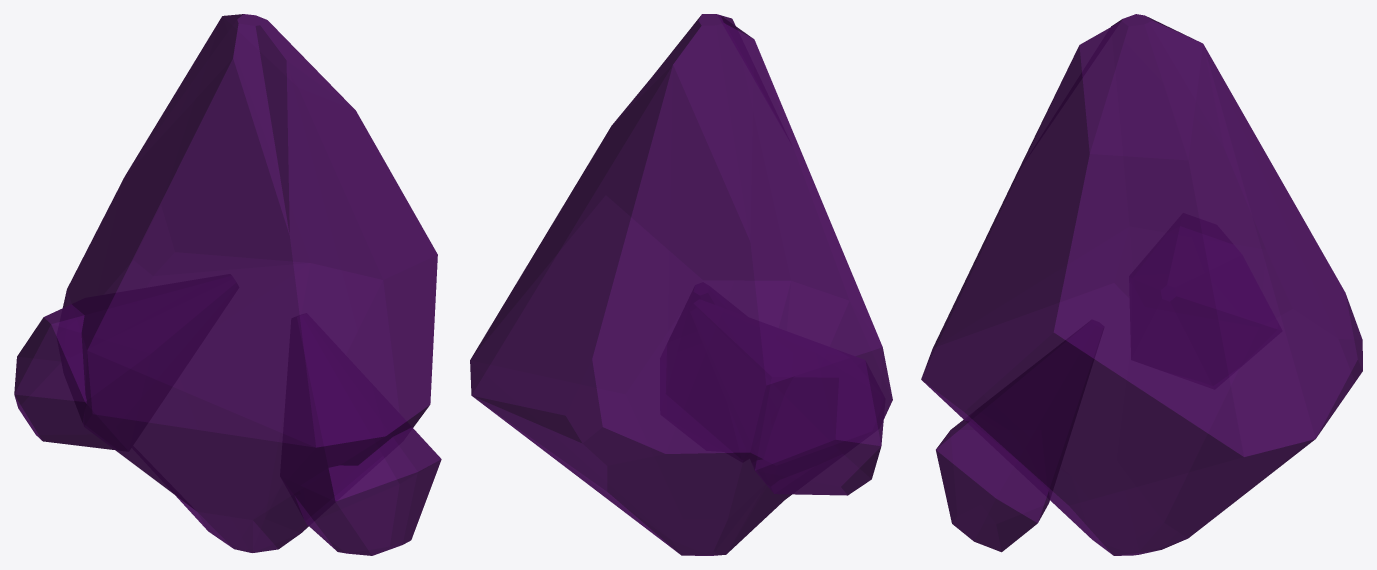
The model's file is Cristal.fbx.
The picture shows the model from 3 angles, left to right: view 1: azimuth 30°, elevation 25°; view 2: azimuth 150°, elevation 25°; view 3: azimuth 270°, elevation 25°; orthographic projection.
Parts seen in each view (by area): view 1: Circle; view 2: Circle; view 3: Circle.
Boxes of the visible parts, x1=… form: Circle: x1=14, y1=14, x2=441, y2=555; Circle: x1=470, y1=14, x2=892, y2=555; Circle: x1=921, y1=14, x2=1362, y2=555.
Bounding box in the file's own units: 1.47 × 1.92 × 1.44.
